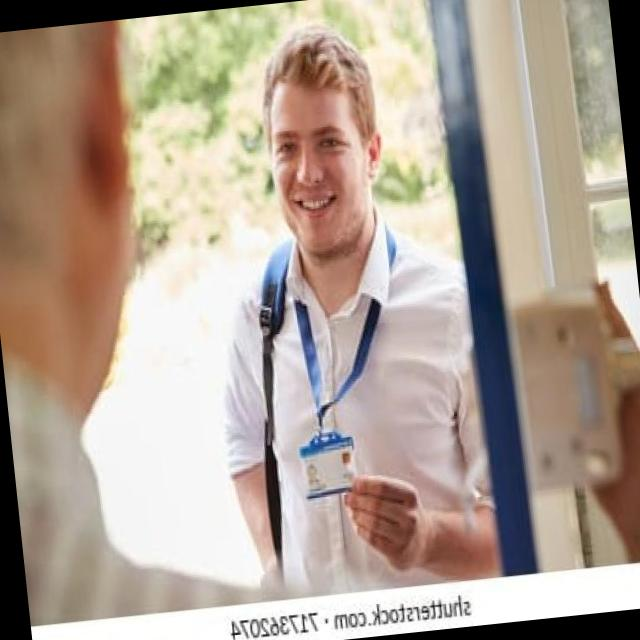id_card: (272, 232, 402, 497)
